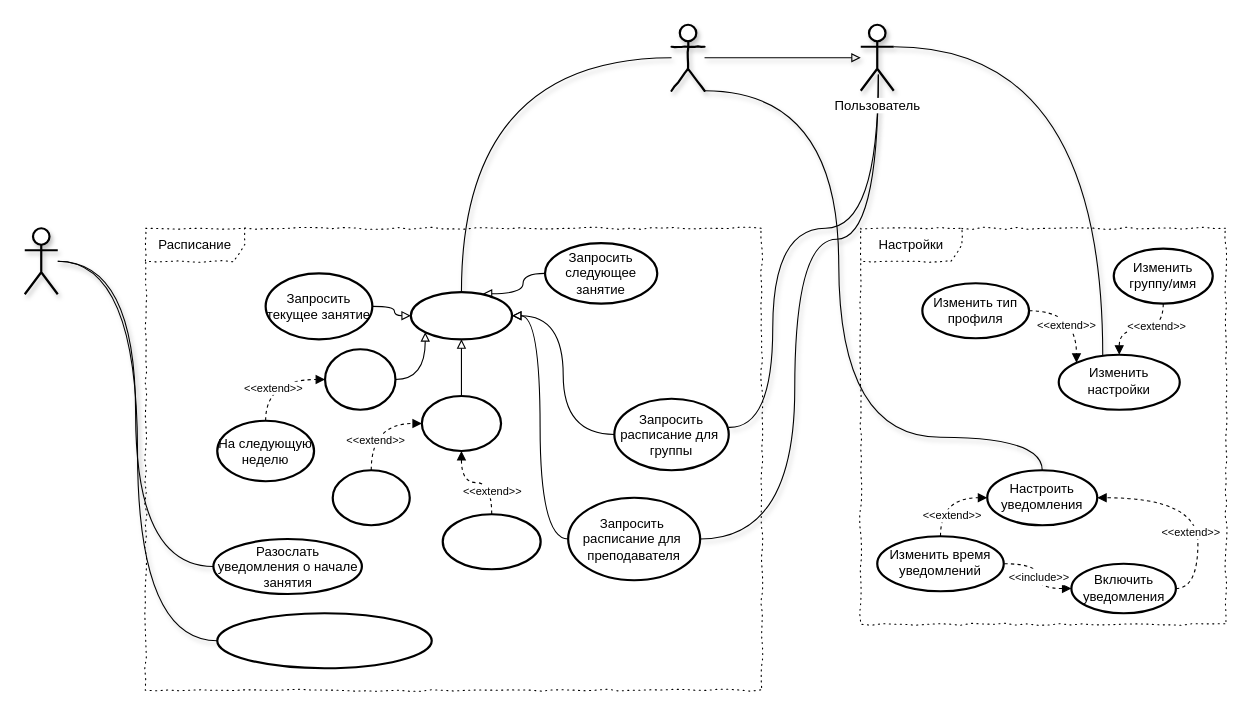
Image size: 1245x710. Some labels were removed from this diagram. Each missing label, with the centre of its shape:
Бот: the point at 42,262
Запросить на завтра: the point at 491,541
Запросить на сегодня: the point at 370,497
Запросить расписание: the point at 461,315
Зарегистрированный пользователь: the point at 689,59
На всю неделю: the point at 359,379
На день недели: the point at 461,423
Разослать уведомления о изменениях в расписании: the point at 324,640
